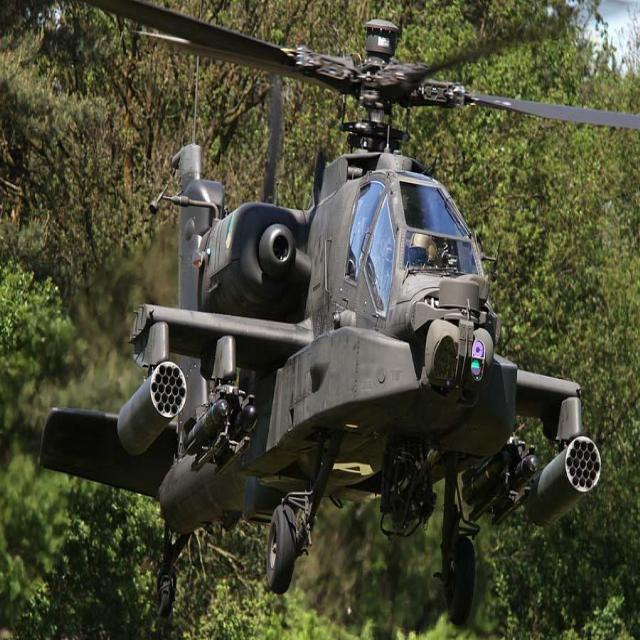MIL_HELO: (38, 0, 640, 628)
